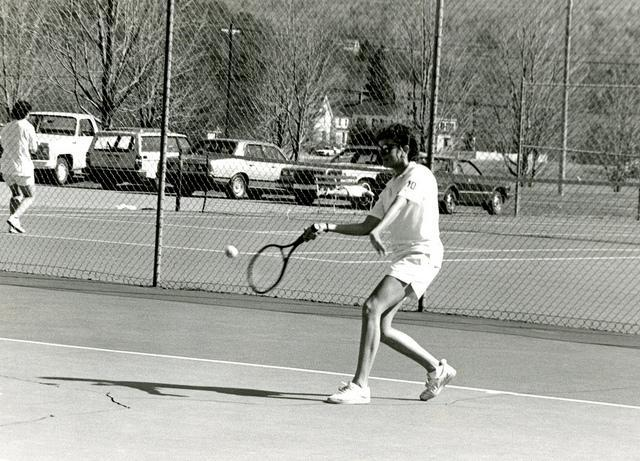car: (274, 146, 426, 210), (164, 138, 303, 198), (83, 125, 193, 190), (433, 156, 514, 216)
truck: (26, 112, 100, 188)
